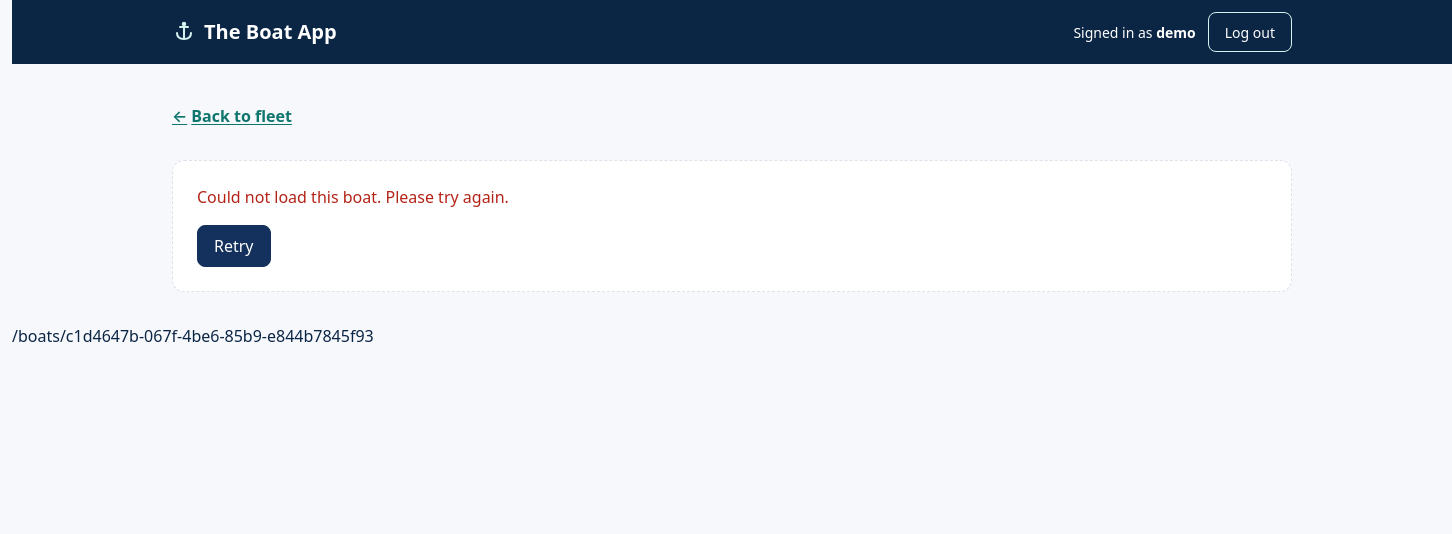
it: BoatDetailPage › shows a generic error for server and network failures and retries on request
This screenshot has width=1452, height=534.
Expected: the message reads "Could not load this boat. Please try again.", x1=197 y1=186 x2=509 y2=208
Click the button "Retry".
click(234, 246)  # box x1=197 y1=225 x2=270 y2=267
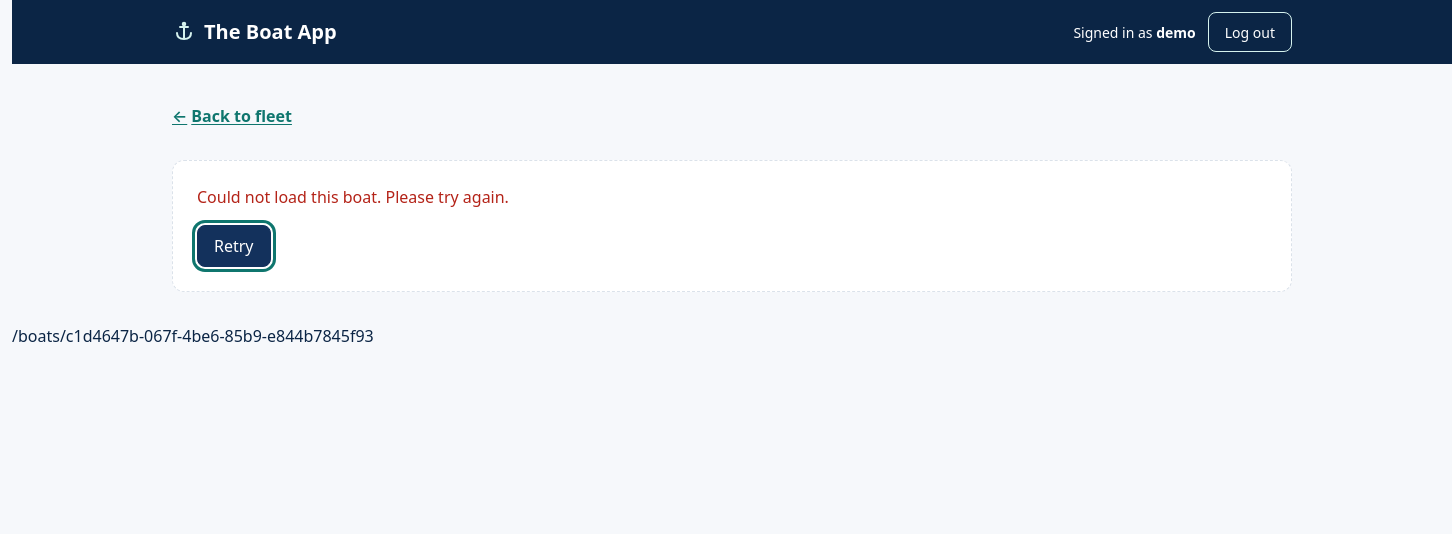
Expected: the message shows "Could not load this boat.", x1=197 y1=186 x2=509 y2=208
Click the button "Retry".
click(234, 246)  # box x1=197 y1=225 x2=270 y2=267
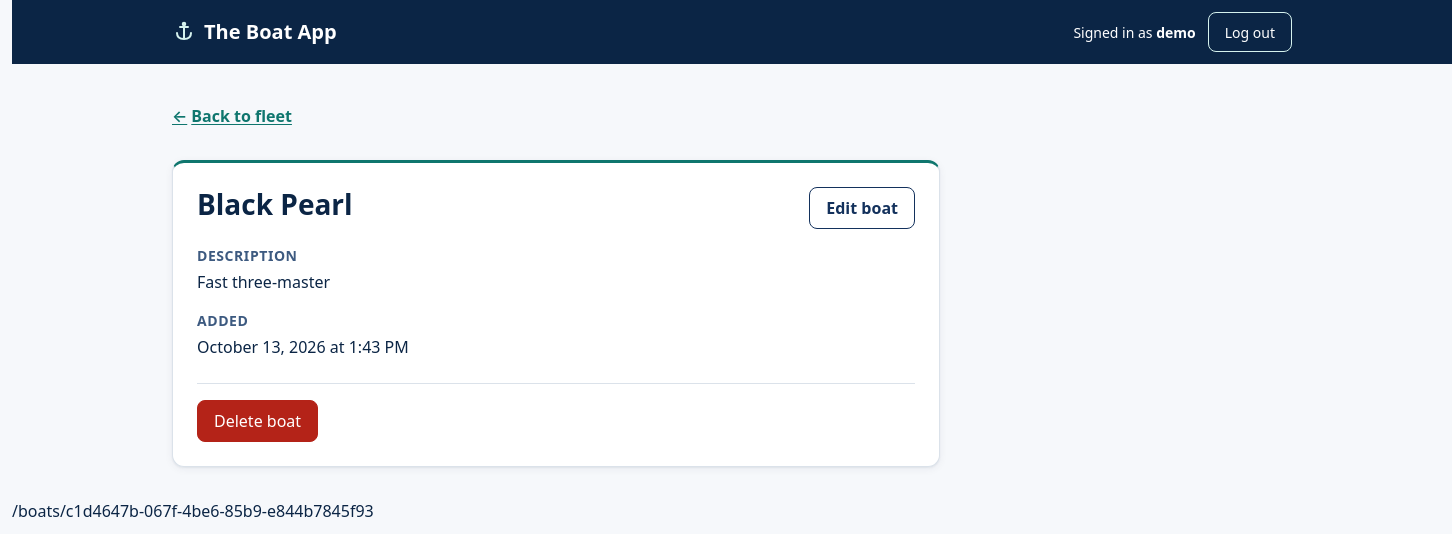
Result: the heading "Black Pearl" is shown at x1=197 y1=187 x2=353 y2=222
